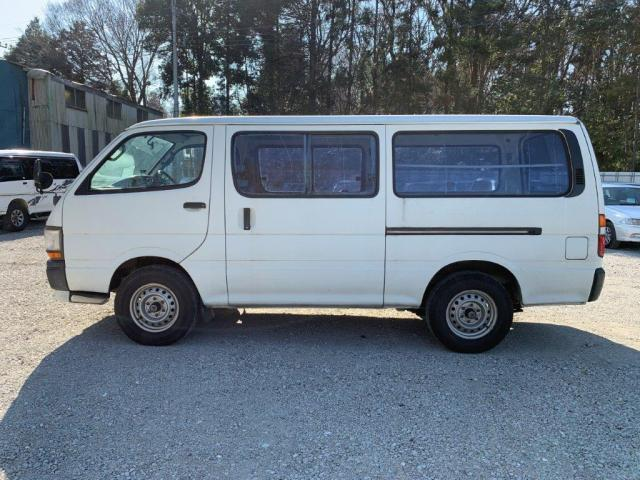Van: (49, 115, 606, 335)
